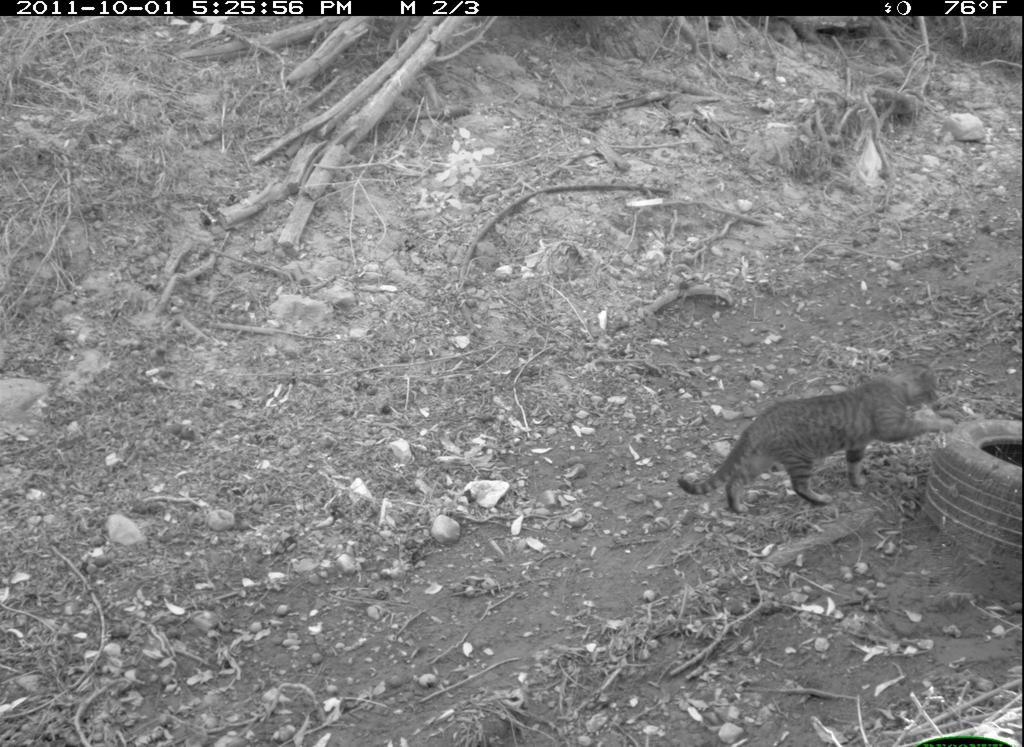cat: (667, 359, 964, 524)
